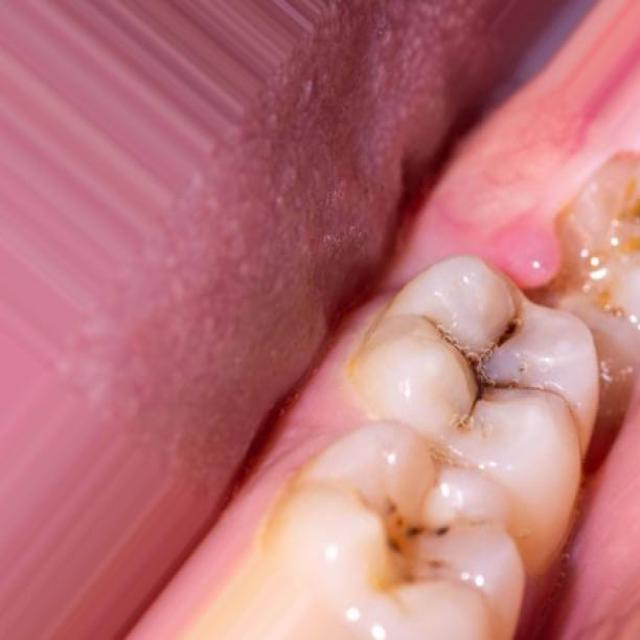caries: (419, 281, 548, 427), (354, 465, 478, 608), (545, 168, 640, 339)
